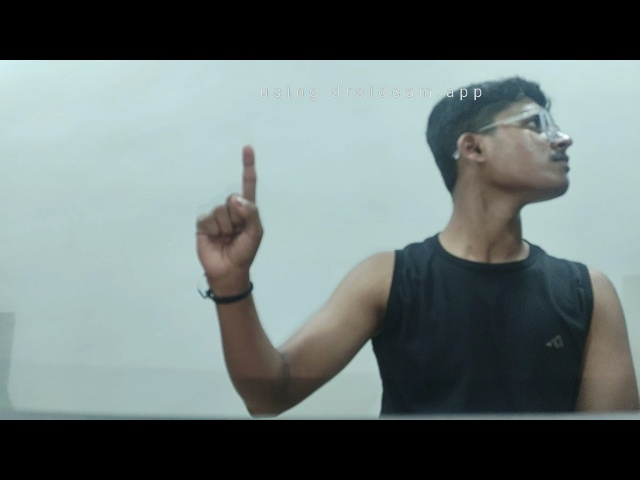no: (175, 141, 278, 304)
